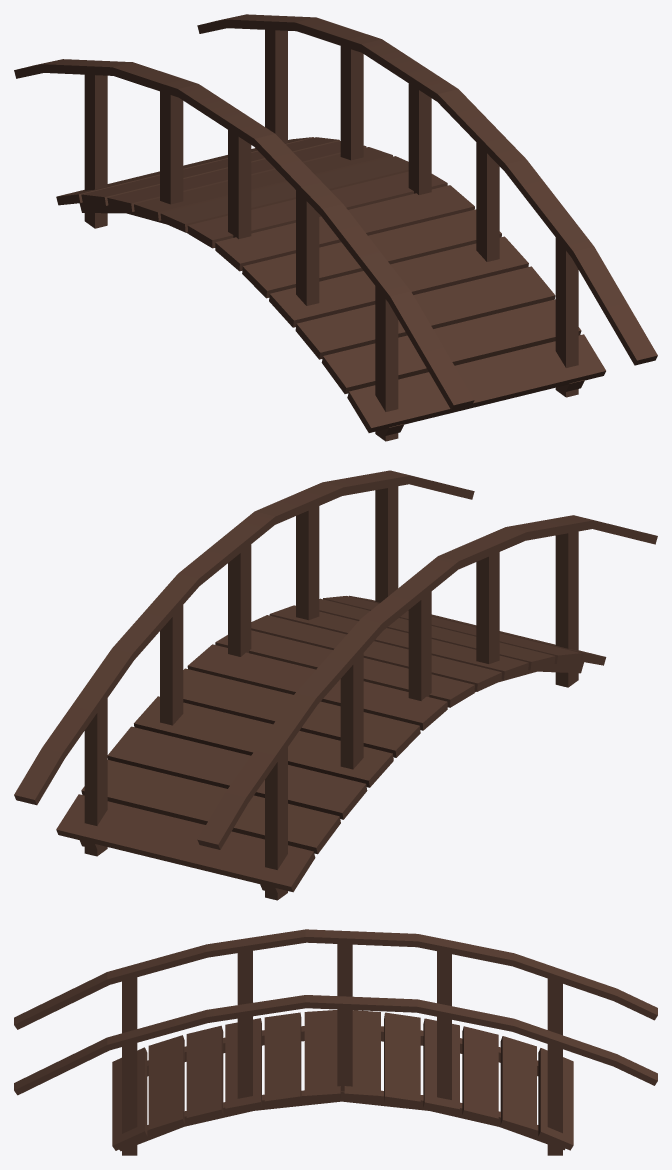
Rendered from 3. Bridge.fbx.
3 views of the same model, one above another, from view 1: azimuth 30°, elevation 25°; view 2: azimuth 150°, elevation 25°; view 3: azimuth 270°, elevation 25° (orthographic). The views are drawn at different scales.
Visible parts, largest first — view 1: Bridge - Steps, Bridge - handrail, Bridge - Structure - Pillar, Bridge - Structure - beams; view 2: Bridge - Steps, Bridge - Structure - Pillar, Bridge - handrail, Bridge - Structure - beams; view 3: Bridge - Steps, Bridge - handrail, Bridge - Structure - Pillar, Bridge - Structure - beams.
Boxes of the visible parts, box(x1,y1,x2,y2) form: Bridge - Steps: box(56, 137, 605, 432); Bridge - handrail: box(14, 14, 657, 410); Bridge - Structure - Pillar: box(84, 30, 578, 441); Bridge - Structure - beams: box(79, 202, 584, 435); Bridge - Steps: box(56, 595, 606, 892); Bridge - Structure - Pillar: box(84, 486, 578, 900); Bridge - handrail: box(14, 470, 657, 849); Bridge - Structure - beams: box(80, 661, 583, 893); Bridge - Steps: box(112, 1010, 573, 1150); Bridge - handrail: box(14, 929, 657, 1095); Bridge - Structure - Pillar: box(122, 944, 562, 1155); Bridge - Structure - beams: box(119, 1026, 565, 1151).
Bounding box in the file's own units: 295 × 254 × 956.
